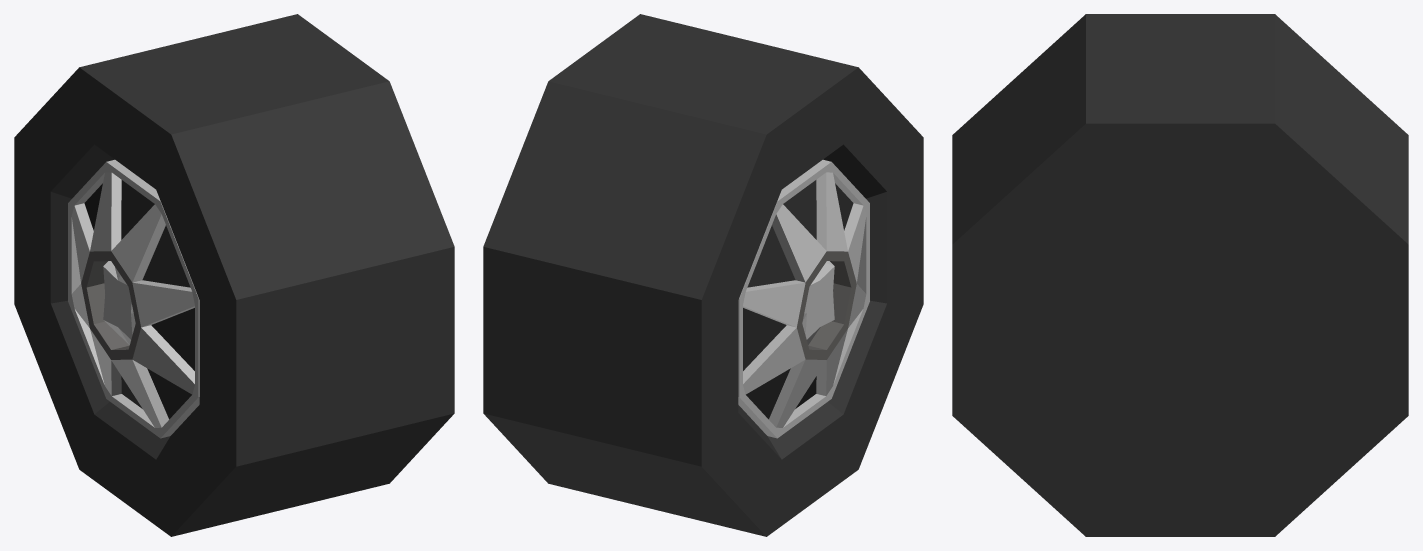
The model's file is Tire_B_01.FBX.
3 renders of one model, left to right at view 1: azimuth 30°, elevation 25°; view 2: azimuth 150°, elevation 25°; view 3: azimuth 270°, elevation 25°, orthographic. The views are drawn at different scales.
Visible parts, largest first — view 1: Tire_B_01; view 2: Tire_B_01; view 3: Tire_B_01.
Part boxes in pixels (x1,y1,x2,y2): Tire_B_01: (14, 14, 454, 536); Tire_B_01: (483, 14, 923, 536); Tire_B_01: (952, 14, 1408, 536).
Size of the model in its own units: 0.687 by 1.14 by 1.14.
